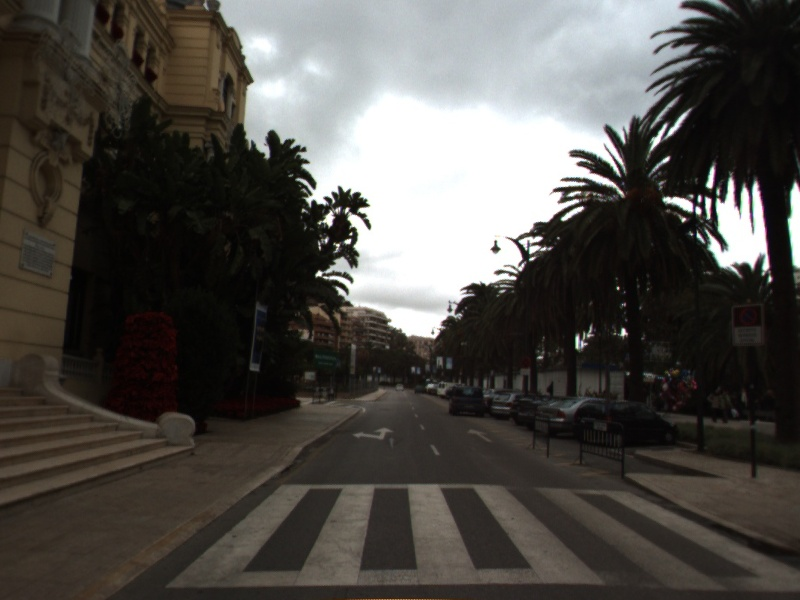STRAIGHT: (464, 426, 496, 444)
STRAIGHT_LEFT: (350, 425, 396, 442)
